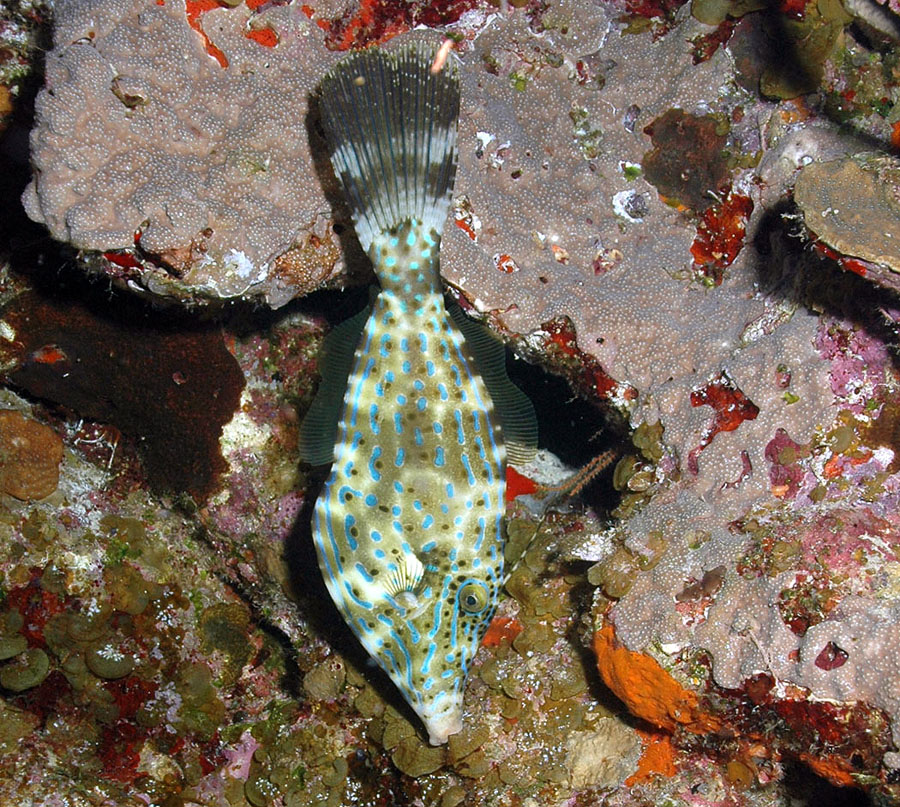Aluterus_scriptus: (296, 27, 546, 753)
